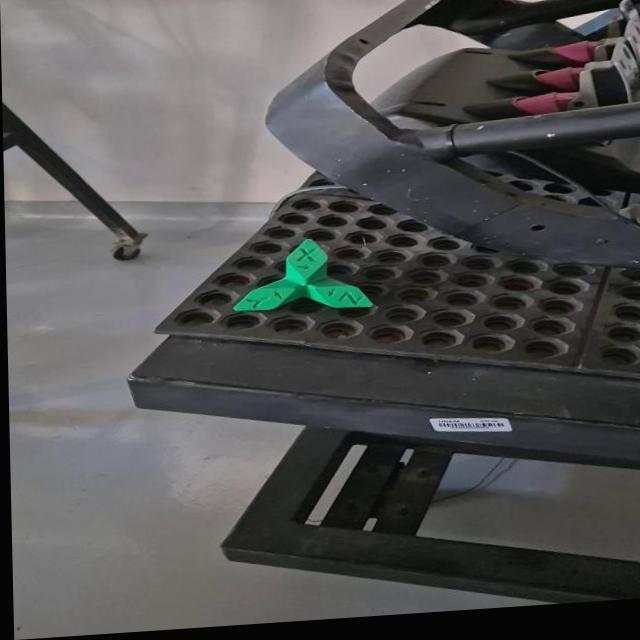eje: (230, 233, 375, 317)
